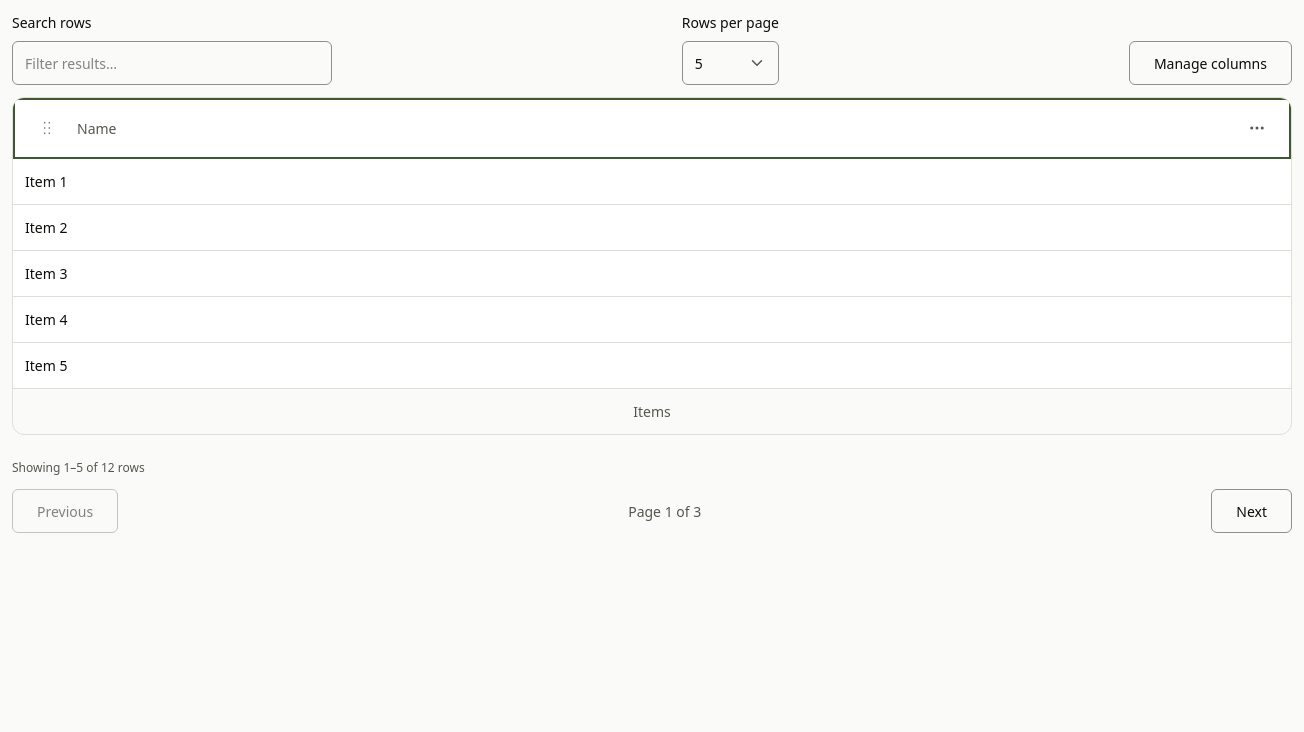
it: DataTable pagination › filters before pagination and resets the page
The width and height of the screenshot is (1304, 732).
Click the button "Next": click(1252, 511) [1211,489,1292,533]
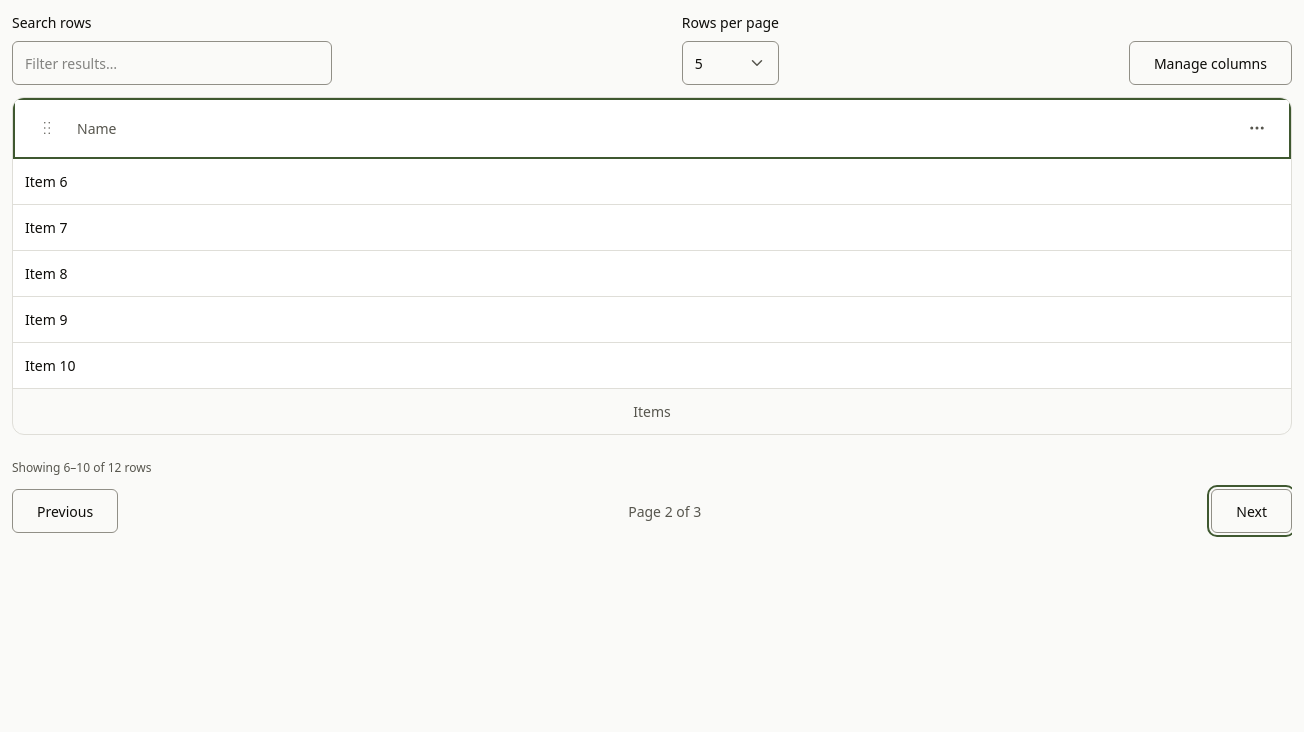
In the field labelled "Search rows": (172, 63) [12,41,332,85], type "Item 12"
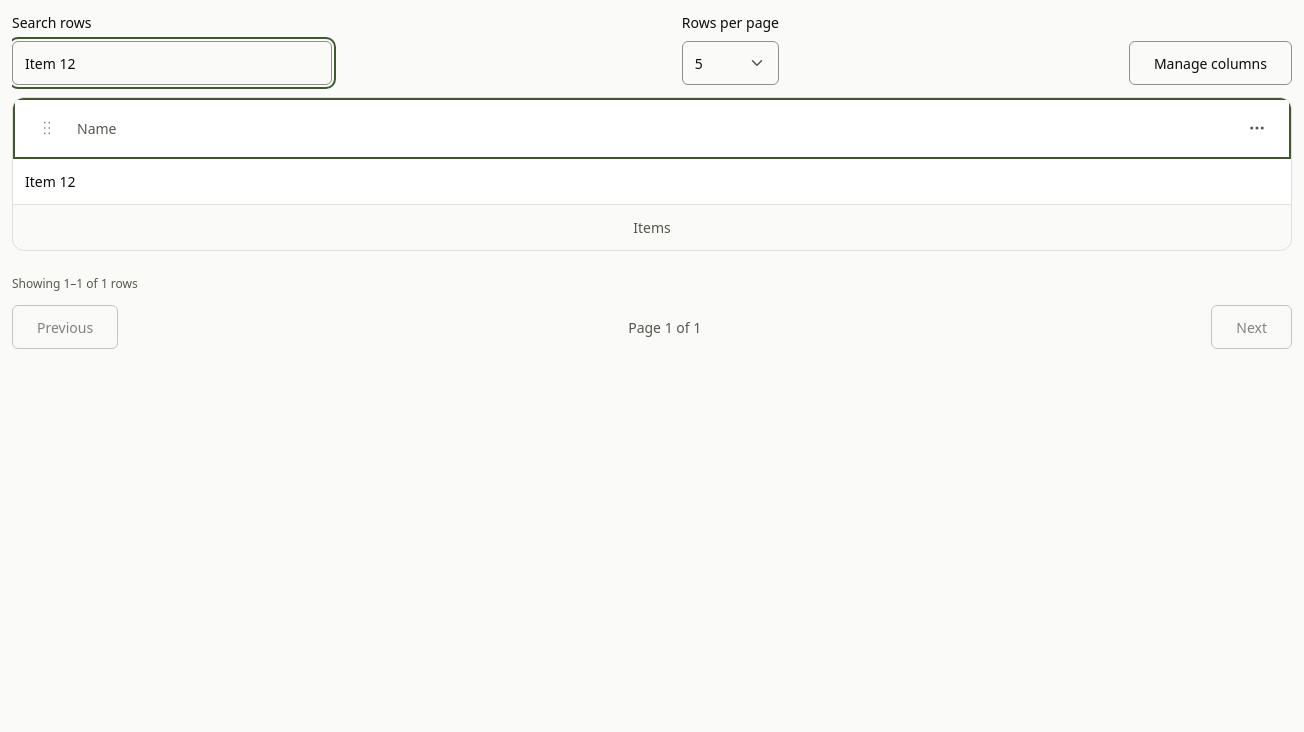
expect the text "Item 12" is shown: met, box [13,159,1291,205]
expect the text "Showing 1–1 of 1 rows" is shown: met, box [12,275,138,292]
Replace the text in the field labelled "Search rows" with "missing": (172, 63) [12,41,332,85]
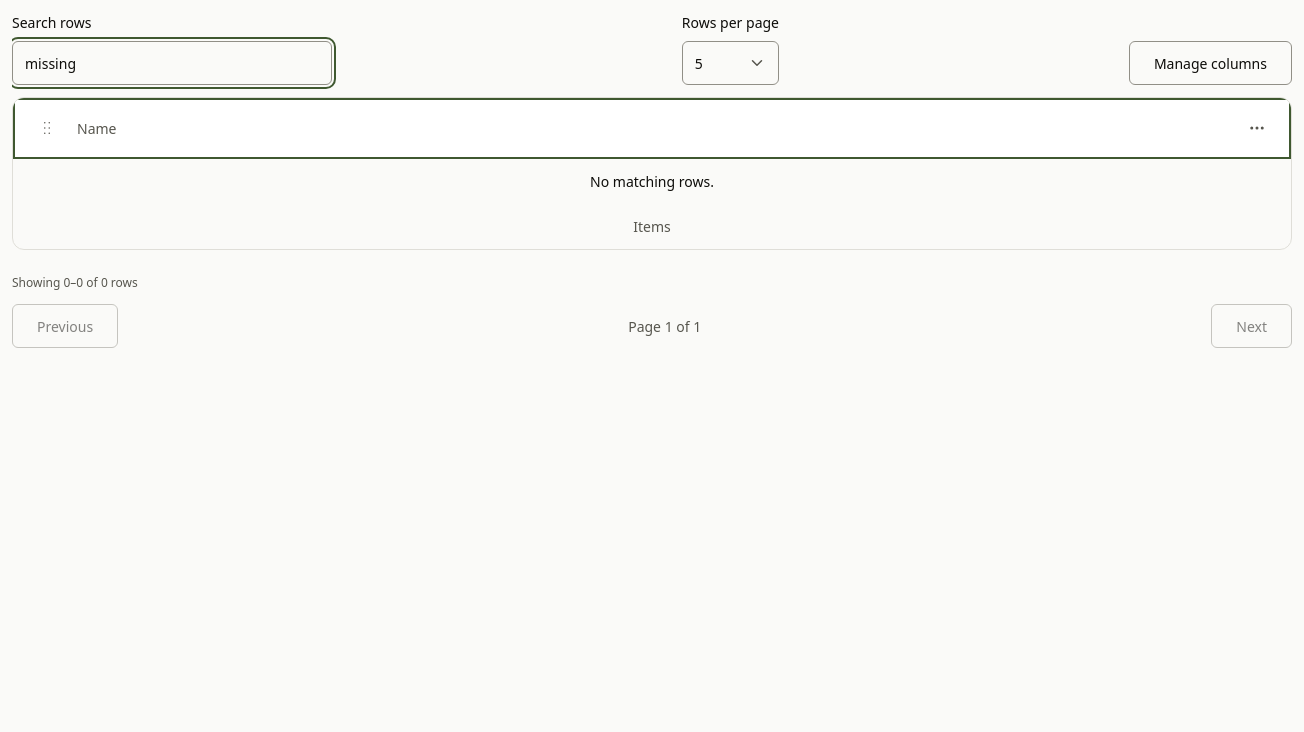
expect the text "No matching rows." is shown: met, box [590,172,714,191]
expect the text "Showing 0–0 of 0 rows" is shown: met, box [12,274,138,291]
